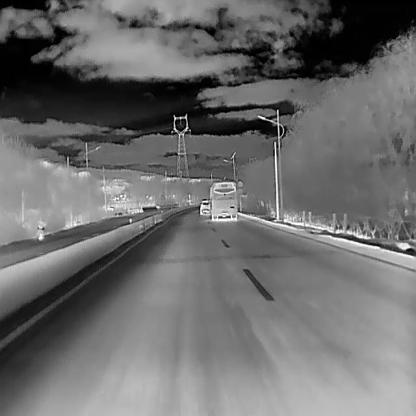car: (207, 179, 238, 222), (198, 196, 211, 216)
